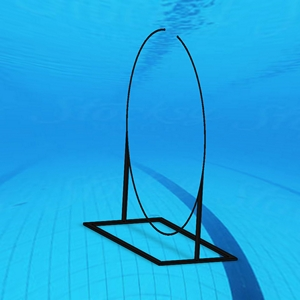circle: (82, 25, 242, 276)
